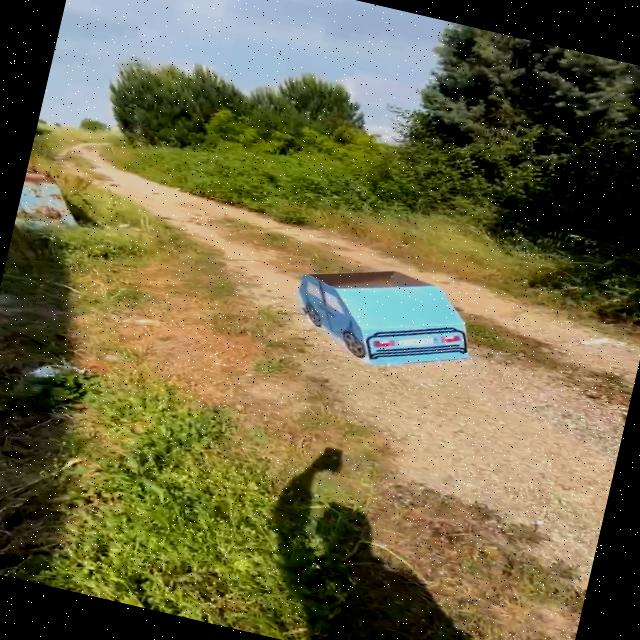blue_car: (261, 240, 500, 392)
